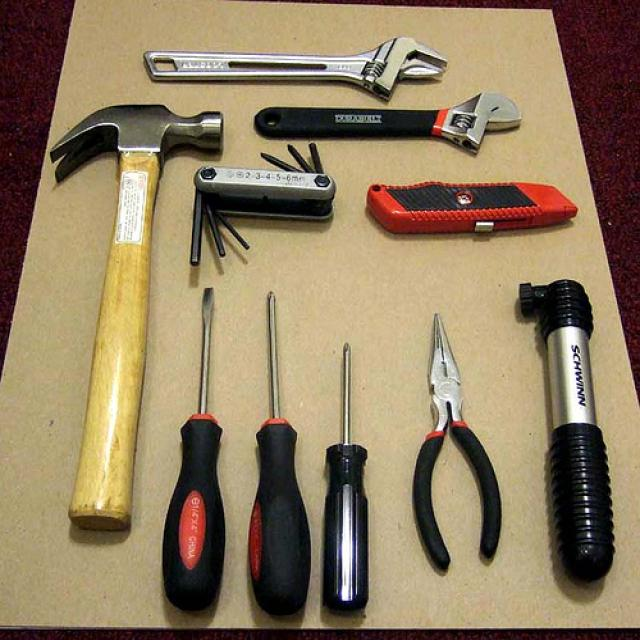hammer: (36, 78, 215, 537)
screw driver: (246, 280, 318, 596), (174, 263, 236, 616), (323, 334, 389, 604)
wrench: (119, 9, 457, 104), (256, 84, 550, 160)
